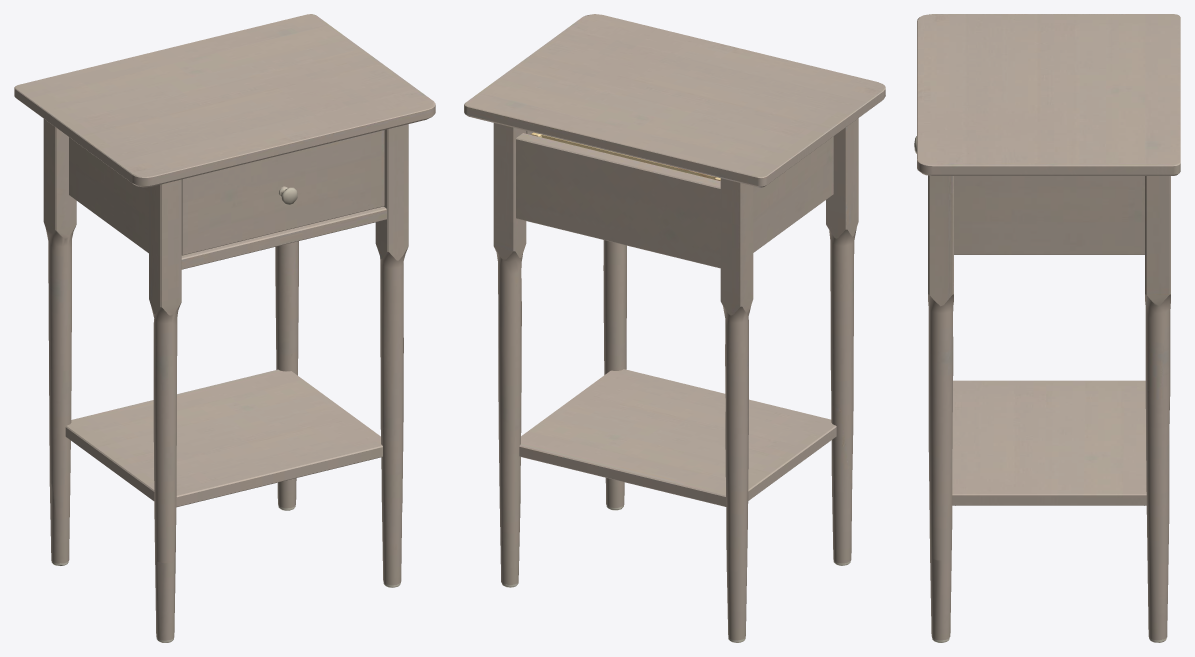
Rendered from blastasen_stolik_nocny_70617570.glb.
The picture shows the model from 3 angles, left to right: view 1: azimuth 30°, elevation 25°; view 2: azimuth 150°, elevation 25°; view 3: azimuth 270°, elevation 25°; orthographic projection. The views are drawn at different scales.
Visible parts, largest first — view 1: blastasen_stolik_nocny_70617570; view 2: blastasen_stolik_nocny_70617570; view 3: blastasen_stolik_nocny_70617570.
Boxes of the visible parts, x1,y1,x2,y2 form: blastasen_stolik_nocny_70617570: (14, 14, 435, 642); blastasen_stolik_nocny_70617570: (464, 14, 885, 642); blastasen_stolik_nocny_70617570: (914, 14, 1180, 642).
Bounding box in the file's own units: 0.5 × 0.757 × 0.3707.
Materials: 1 (1 with a texture image).
